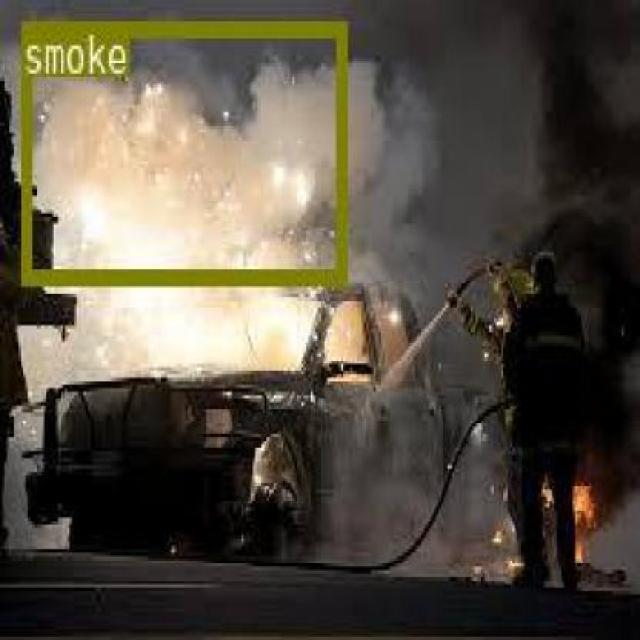Smoke: (21, 19, 346, 281)
